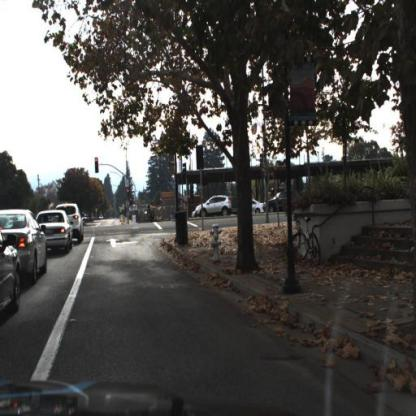car: (0, 207, 47, 284), (38, 205, 70, 254), (53, 199, 84, 245), (260, 185, 300, 218), (60, 203, 84, 244), (268, 190, 302, 217), (202, 193, 238, 216)
trafficLight-Red: (93, 156, 98, 172), (126, 186, 130, 198)
